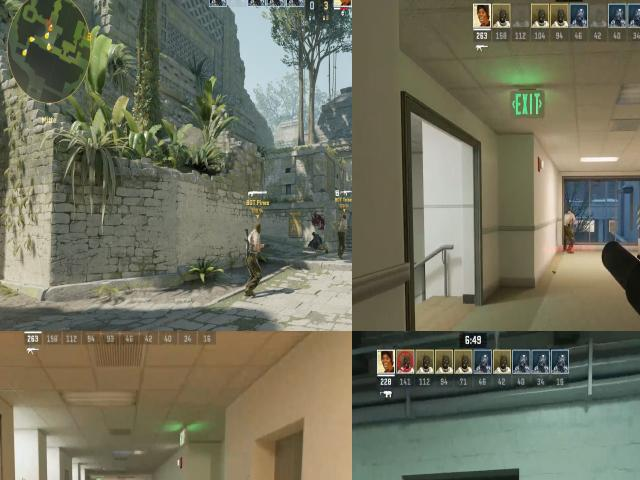Dead: (306, 227, 325, 254)
T: (243, 222, 267, 297), (337, 211, 350, 262), (562, 206, 576, 236)
T-Head: (254, 223, 264, 236), (339, 213, 348, 221), (567, 208, 572, 218)
